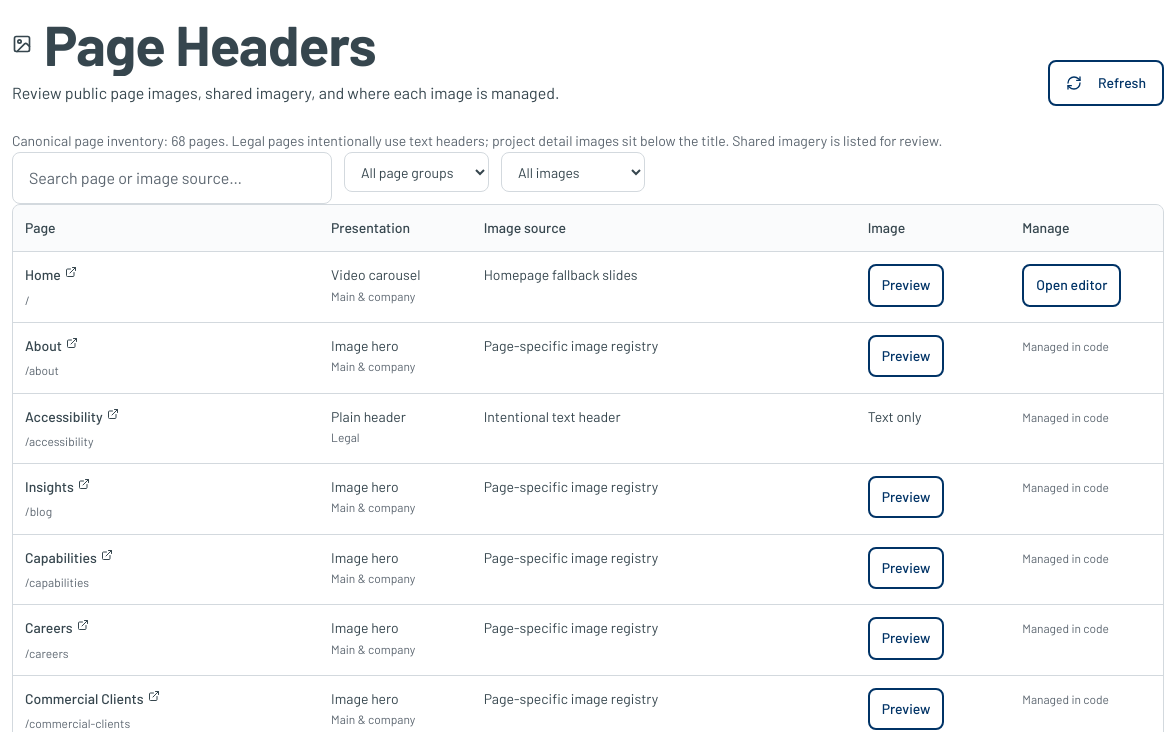
page-header administration › filters truthful image sources and exposes editors only for database-managed service pages
Expected: the button "Refresh" is enabled, [1048,60,1164,106]
Type "commercial-painting-gta" into the field named "Search page headers" at point(172, 178), box [12,152,332,204]
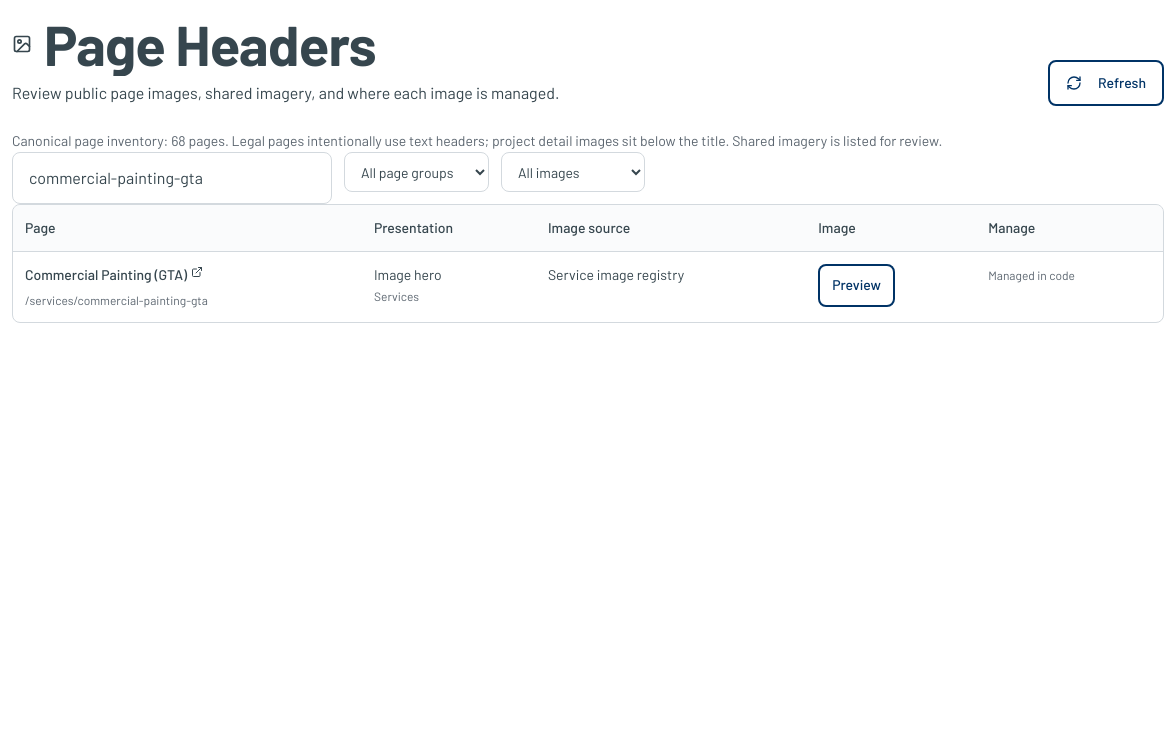
Expected: the text "Service image registry" is shown, [536,252,806,322]
Expected: the link "Open editor" is gone
Replace the text in the field named "Search page headers" with "building-envelope-solutions" at point(172, 178), box [12,152,332,204]
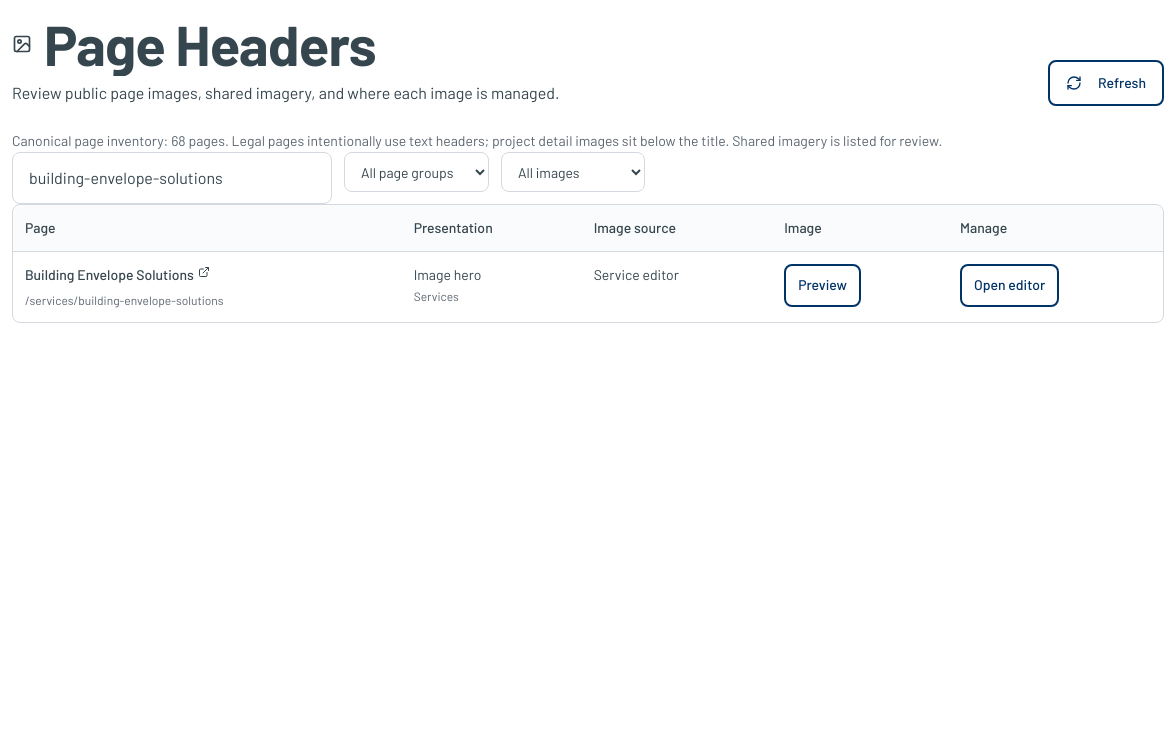
Expected: the text "Service editor" is shown, [582,252,772,322]
Select "Needs attention" in the dropdown named "Image coverage" at point(573, 172), box [501,152,645,192]
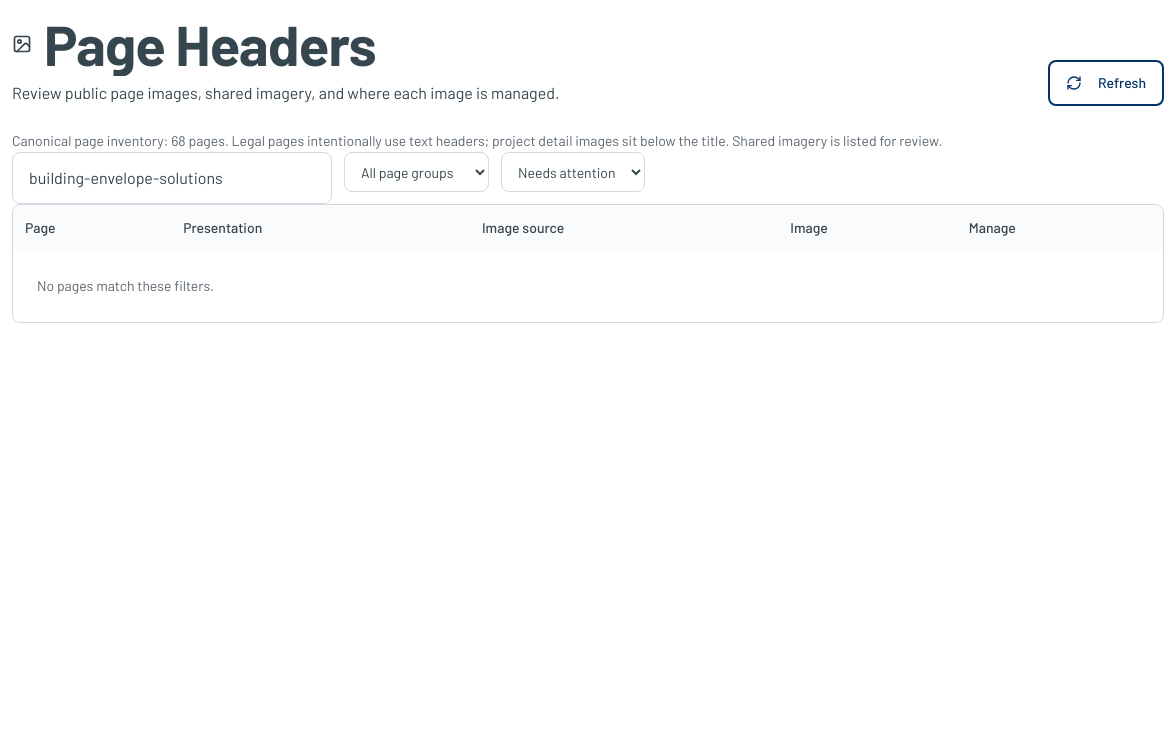
Expected: the text "No pages match these filters." is shown, [37,277,214,294]
Replace the text in the field named "Search page headers" with "interior-buildouts-finishing" at point(172, 178), box [12,152,332,204]
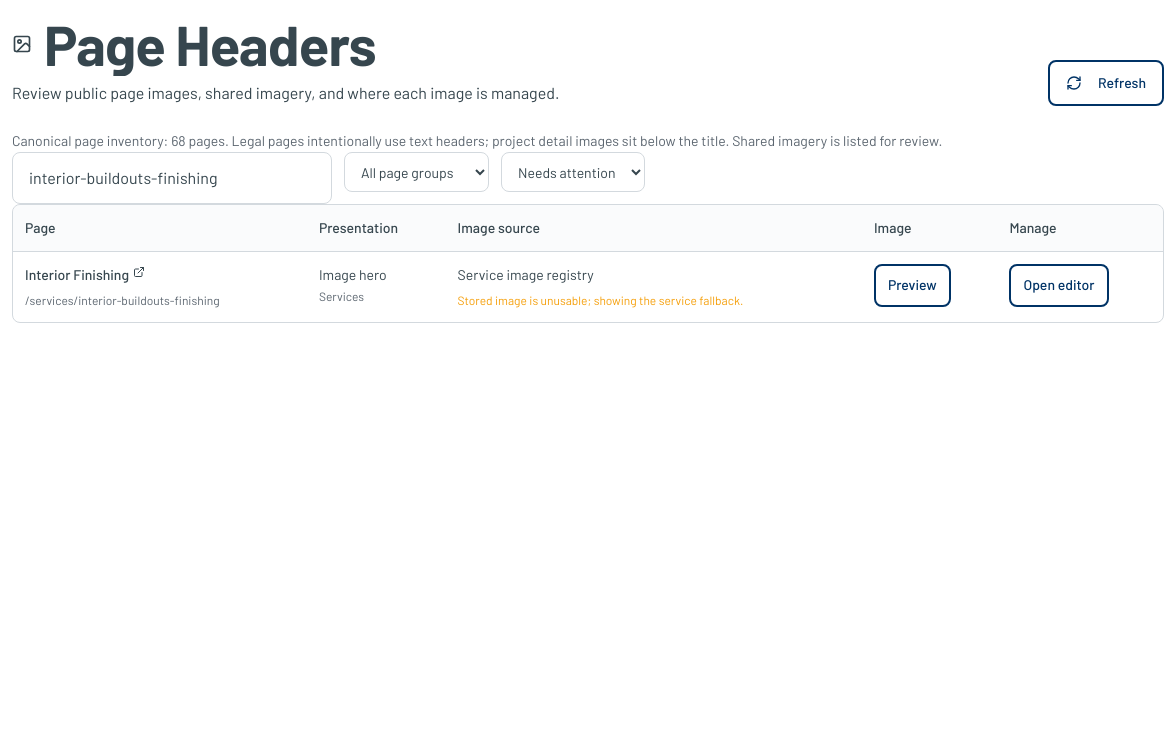
Expected: the text "Stored image is unusable; showing the service fallback." is shown, [458,293,743,307]
Clear the field named "Search page headers" at point(172, 178), box [12,152,332,204]
Select "All images" in the dropdown named "Image coverage" at point(573, 172), box [501,152,645,192]
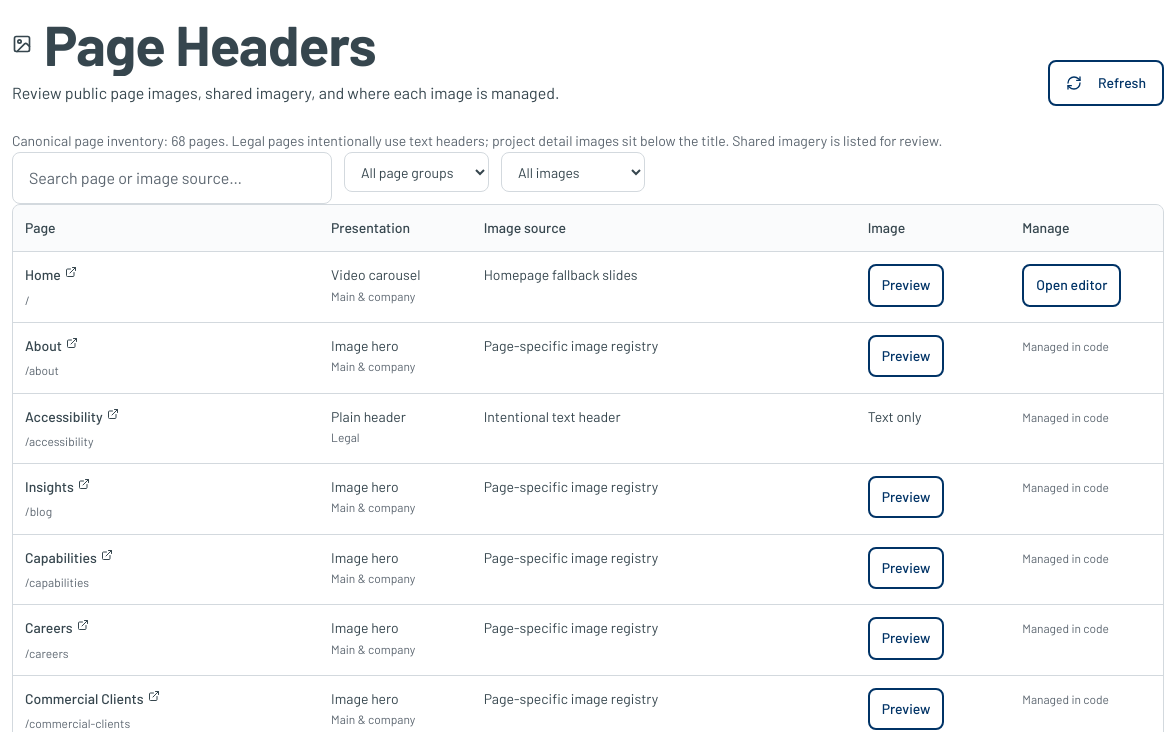
Select "Cities" in the dropdown named "Page group" at point(416, 172), box [344,152,489,192]
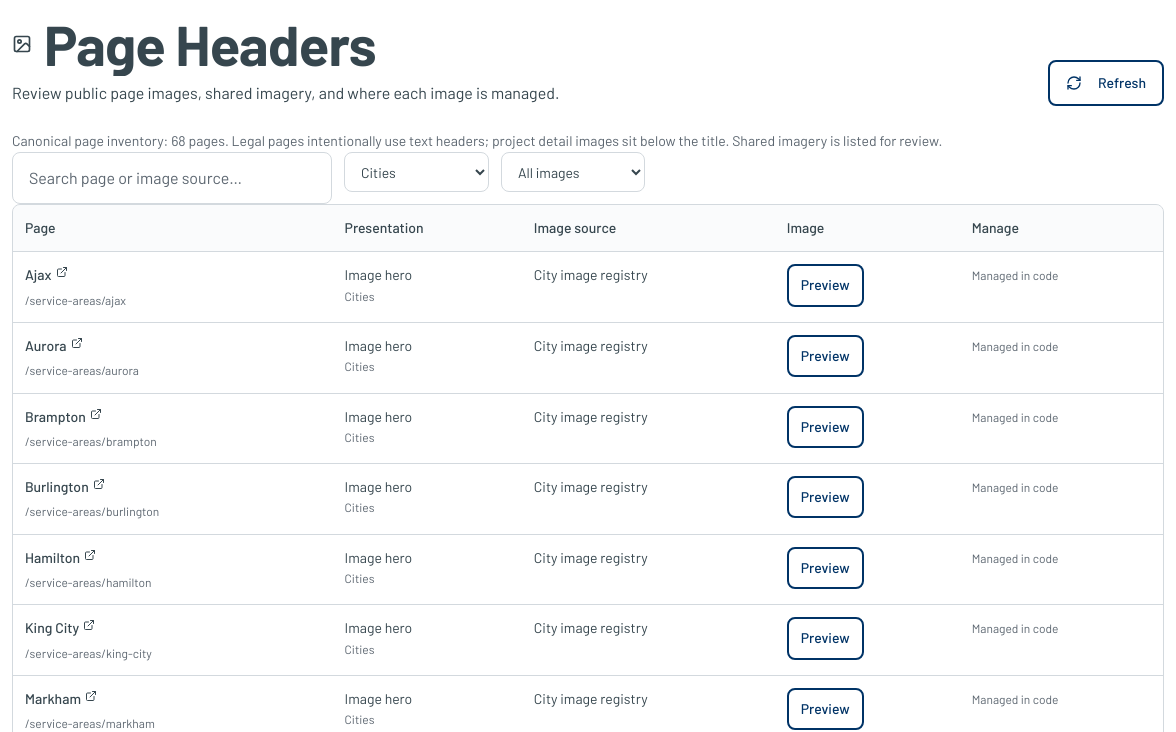
Expected: the text "City image registry" is shown 17 times
